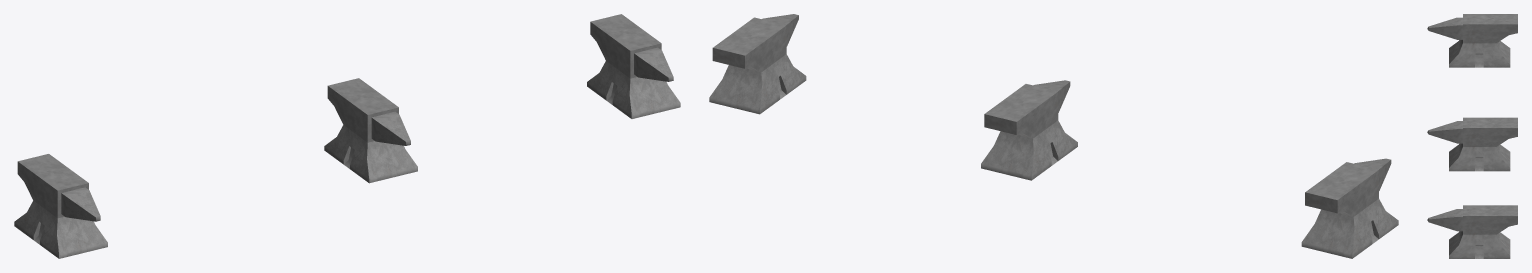
Rendered from anvil.fbx.
3 renders of one model, left to right at view 1: azimuth 30°, elevation 25°; view 2: azimuth 150°, elevation 25°; view 3: azimuth 270°, elevation 25°, orthographic. The views are drawn at different scales.
Visible parts, largest first — view 1: anvils; view 2: anvils; view 3: anvils.
Boxes of the visible parts, x1,y1,x2,y2 form: anvils: [14, 14, 680, 258]; anvils: [709, 14, 1398, 258]; anvils: [1427, 14, 1517, 258].
Bounding box in the file's own units: 3.77 × 0.3403 × 0.6959.
Materials: 1 (1 with a texture image).
